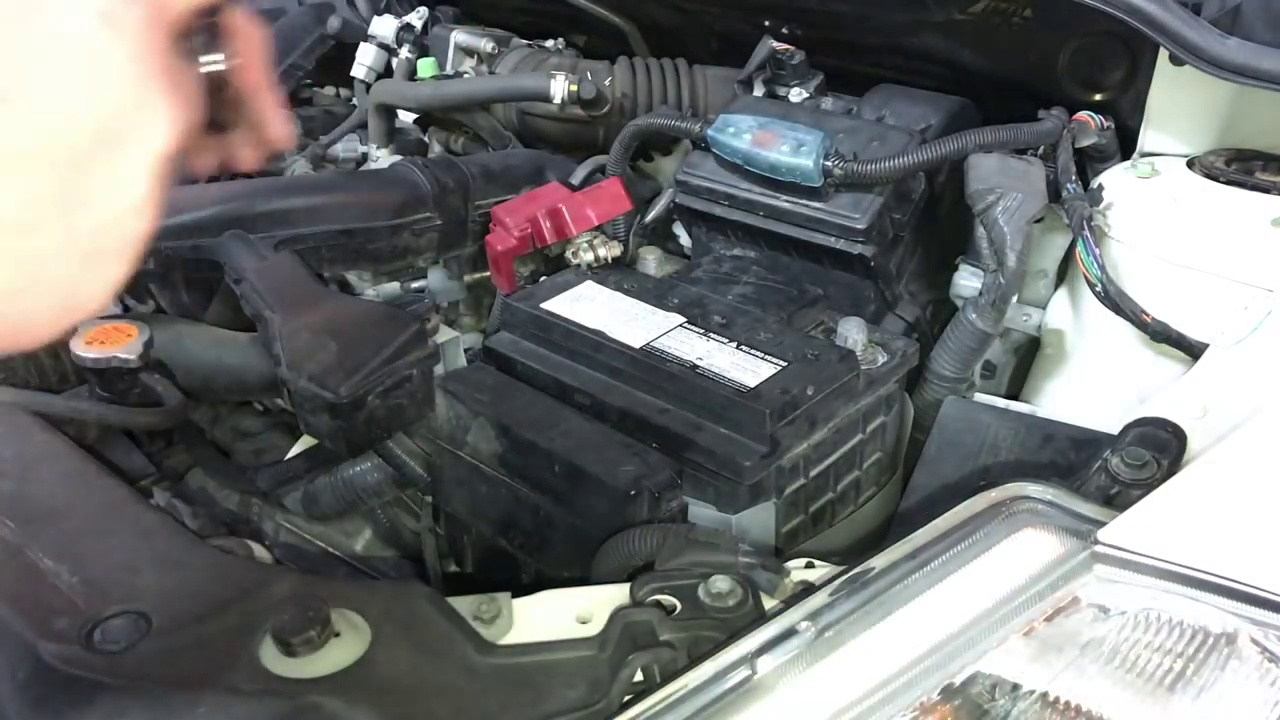battery: (488, 211, 910, 441)
neg_disconnected: (802, 285, 903, 388)
pos_disconnected: (482, 174, 671, 301)
